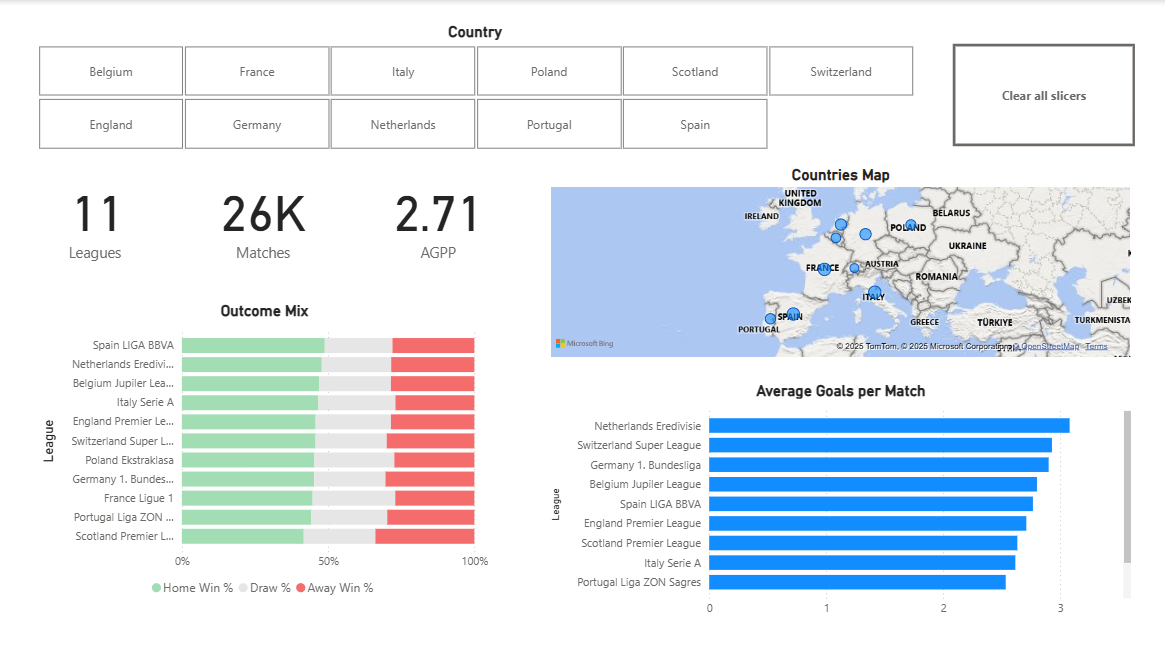

What the dashboard file says about the page in this screenshot:
{"tool":"powerbi","page":{"name":"League Comparison Vol1","canvas":[1280,720],"ordinal":2},"visuals":[{"type":"slicer","title":"Country","fields":{"Values":["Country.name"]},"box":[17.8,24.7,1010,145.5],"z":0},{"type":"actionButton","box":[1047,48,200.3,112.5],"z":1000},{"type":"card","fields":{"Values":["Measures – Core.Leagues Selected"]},"box":[42.5,181.1,130.4,113.9],"z":2000},{"type":"card","fields":{"Values":["Measures – Core.Matches (distinct)"]},"box":[225,181.1,130.4,113.9],"z":3000},{"type":"card","fields":{"Values":["Measures – Core.Avg Goals per Match"]},"box":[417.2,181.1,130.4,113.9],"z":4000},{"type":"map","title":"Countries Map","fields":{"Category":["Country.name"],"Size":["Measures – Core.Matches (distinct)"]},"box":[601,181.1,646.3,215.4],"z":5000},{"type":"hundredPercentStackedBarChart","title":"Outcome Mix","fields":{"Category":["League.name"],"Y":["Measures – Core.Home Win %","Measures – Core.Draw %","Measures – Core.Away Win %"]},"box":[41.2,330.7,500.9,333.4],"z":6000},{"type":"barChart","title":"Average Goals per Match","fields":{"Category":["League.name"],"Y":["Measures – Core.Avg Goals per Match"]},"box":[601,418.5,646.3,267.6],"z":7000}]}

Visuals, with their boxes in screenshot pixels (x1, y1, x2, y2), scaled from the page's 1280x720 canvas onto the 1165x652 screenshot:
"Country" slicer: x1=16, y1=22, x2=935, y2=154
actionButton: x1=953, y1=43, x2=1135, y2=145
card - Measures – Core.Leagues Selected: x1=39, y1=164, x2=157, y2=267
card - Measures – Core.Matches (distinct): x1=205, y1=164, x2=323, y2=267
card - Measures – Core.Avg Goals per Match: x1=380, y1=164, x2=498, y2=267
"Countries Map" map: x1=547, y1=164, x2=1135, y2=359
"Outcome Mix" hundredPercentStackedBarChart: x1=37, y1=299, x2=493, y2=601
"Average Goals per Match" barChart: x1=547, y1=379, x2=1135, y2=621
